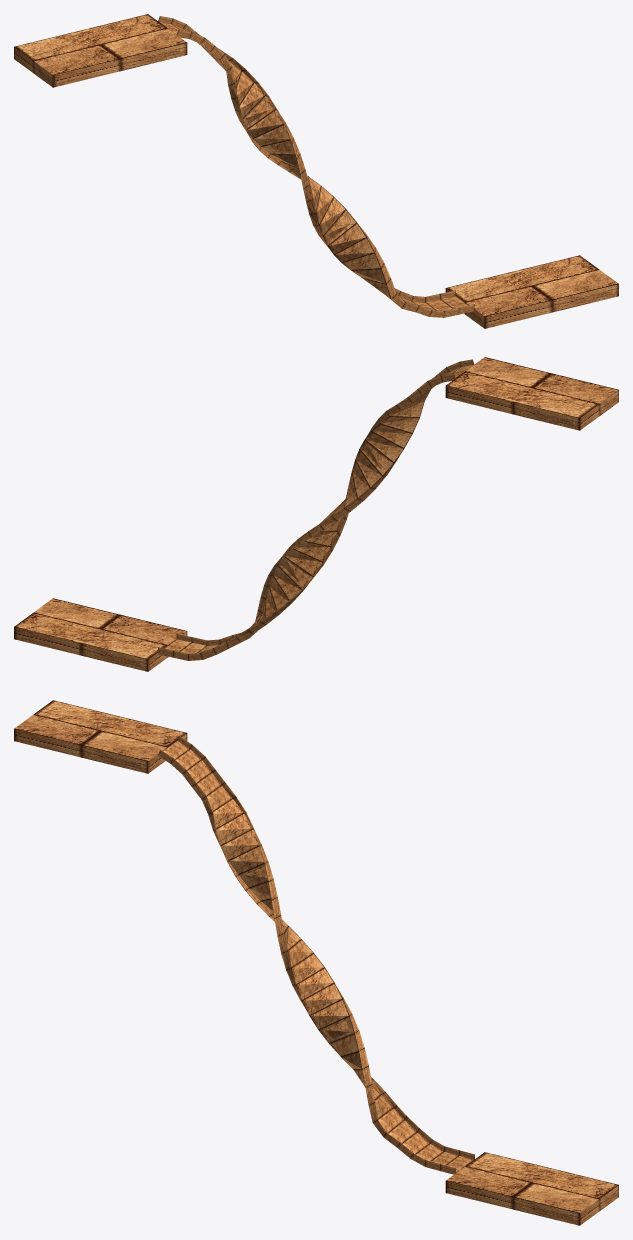
The model's file is CorkscrewTest (copy).obj.
The picture shows the model from 3 angles, top to bottom: view 1: azimuth 30°, elevation 25°; view 2: azimuth 150°, elevation 25°; view 3: azimuth 330°, elevation 25°; orthographic projection.
Size of the model in its own units: 963 by 591 by 115.
1 material, 1 textured.
